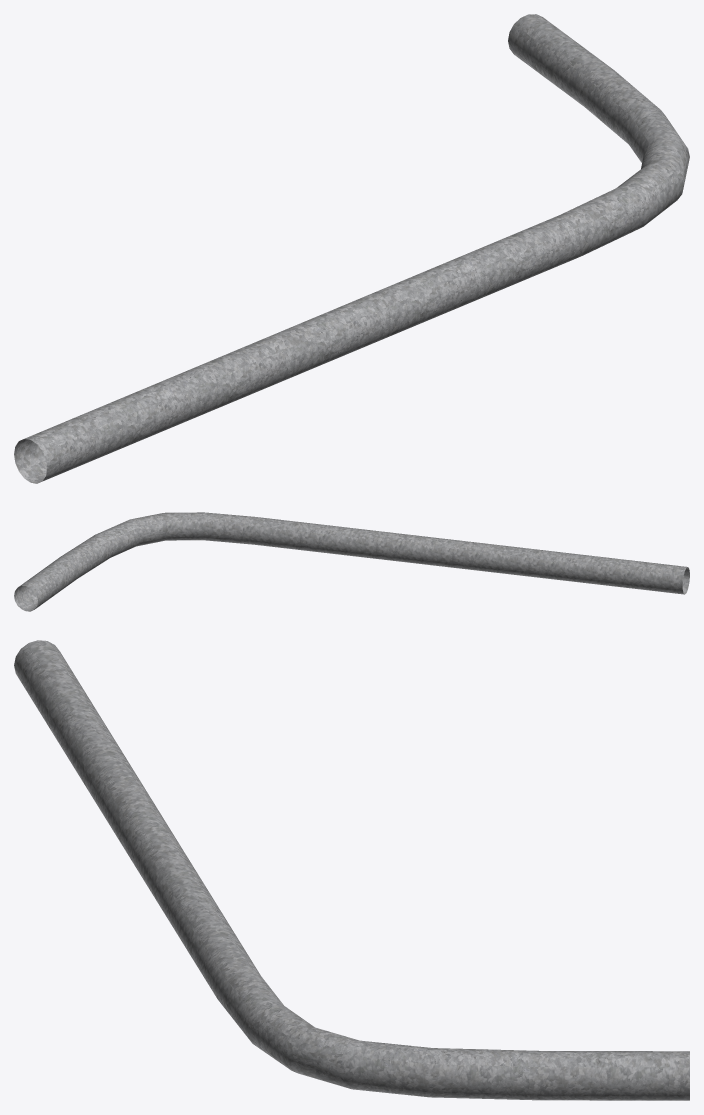
The model's file is Standard_x1500_y1000_ae_h0.obj.
The picture shows the model from 3 angles, top to bottom: view 1: azimuth 30°, elevation 25°; view 2: azimuth 150°, elevation 25°; view 3: azimuth 270°, elevation 25°; orthographic projection. The views are drawn at different scales.
Parts seen in each view (by area): view 1: Ausleger_Standard_BezierCurve.006; view 2: Ausleger_Standard_BezierCurve.006; view 3: Ausleger_Standard_BezierCurve.006.
Part boxes in pixels (box(x1,y1,x2,y2)): Ausleger_Standard_BezierCurve.006: box(14, 14, 689, 483); Ausleger_Standard_BezierCurve.006: box(14, 512, 689, 611); Ausleger_Standard_BezierCurve.006: box(14, 640, 689, 1100).
Size of the model in its own units: 1.55 by 0.076 by 1.04.
Materials: 1 (1 with a texture image).
